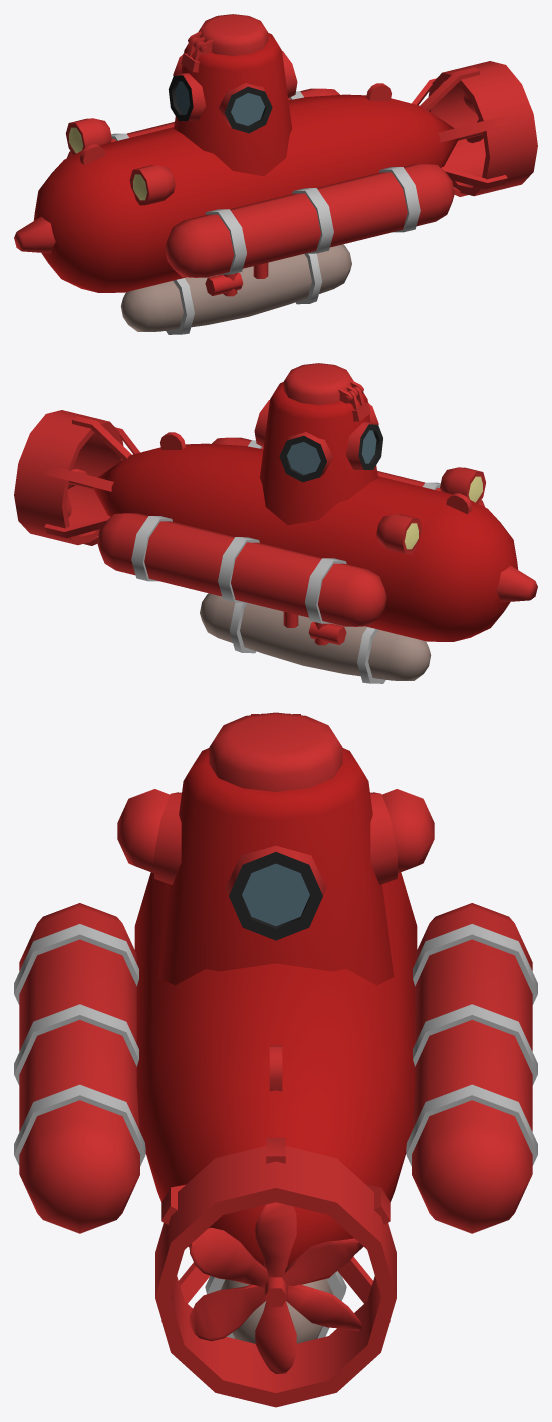
File: Water_Ship_003.glb
3 views of the same model, one above another, from view 1: azimuth 30°, elevation 25°; view 2: azimuth 150°, elevation 25°; view 3: azimuth 270°, elevation 25° (orthographic). The views are drawn at different scales.
Parts seen in each view (by area): view 1: Water_Ship_003; view 2: Water_Ship_003; view 3: Water_Ship_003.
Boxes of the visible parts, x1,y1,x2,y2 form: Water_Ship_003: (14, 14, 537, 334); Water_Ship_003: (14, 363, 537, 683); Water_Ship_003: (14, 712, 537, 1407).
Bounding box in the file's own units: 6.99 × 4.04 × 3.43.
Materials: 1 (1 with a texture image).
